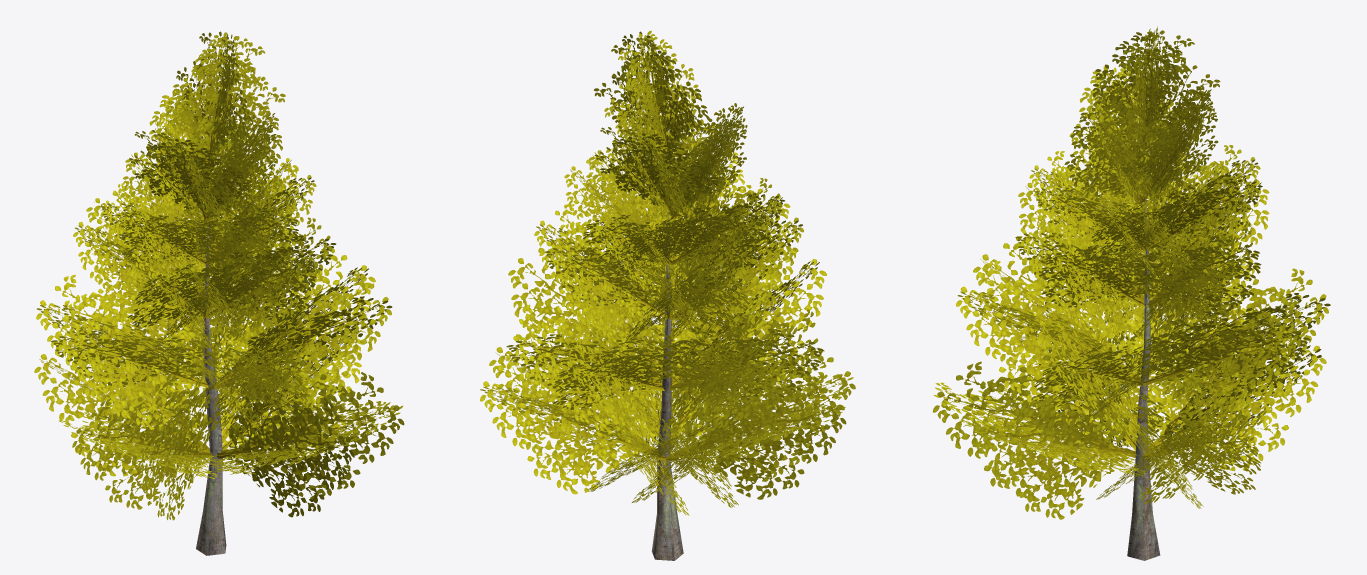
The model's file is tree_f.FBX.
3 views of the same model, side by side, from view 1: azimuth 30°, elevation 25°; view 2: azimuth 150°, elevation 25°; view 3: azimuth 270°, elevation 25° (orthographic). The views are drawn at different scales.
Parts seen in each view (by area): view 1: tree_f; view 2: tree_f; view 3: tree_f.
Part boxes in pixels (left/top/right/bottom): tree_f: left=34, top=31, right=404, bottom=555; tree_f: left=480, top=30, right=855, bottom=560; tree_f: left=932, top=26, right=1330, bottom=560.
Size of the model in its own units: 9.84 by 13.9 by 10.21.
Materials: 2 (2 with a texture image).
